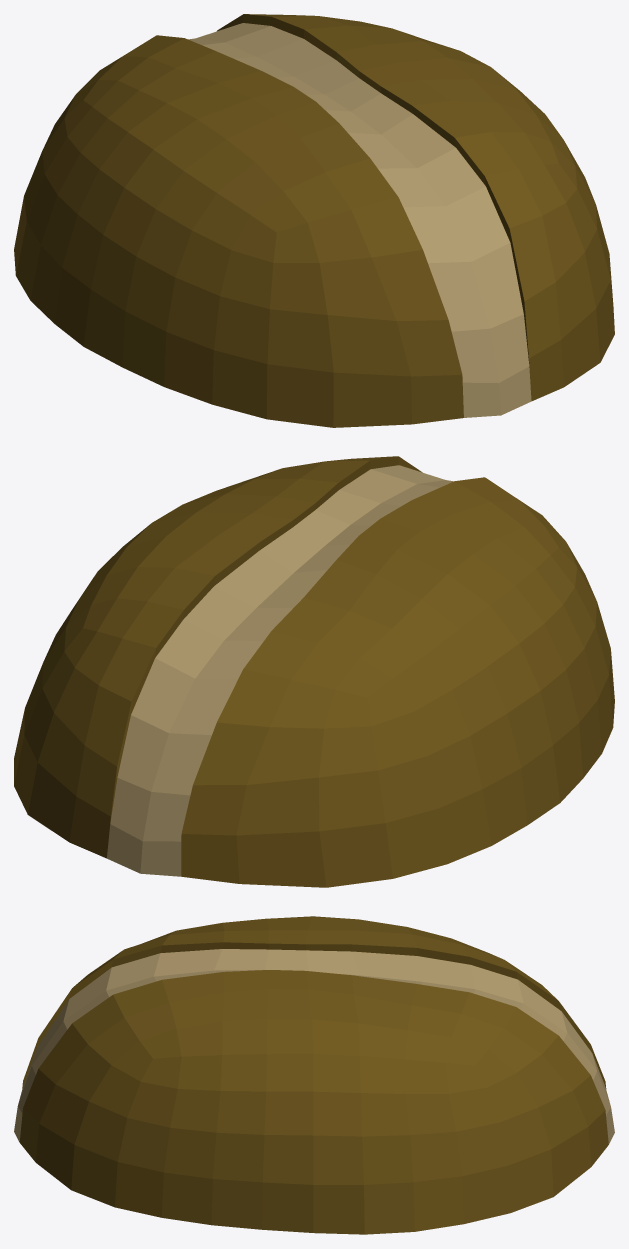
Rendered from bread.fbx.
The picture shows the model from 3 angles, top to bottom: view 1: azimuth 30°, elevation 25°; view 2: azimuth 150°, elevation 25°; view 3: azimuth 270°, elevation 25°; orthographic projection. The views are drawn at different scales.
Visible parts, largest first — view 1: Cube; view 2: Cube; view 3: Cube.
Part boxes in pixels (x1,y1,x2,y2): Cube: [14, 14, 614, 427]; Cube: [14, 456, 614, 887]; Cube: [14, 916, 614, 1234].
Bounding box in the file's own units: 154 × 65.81 × 199.
